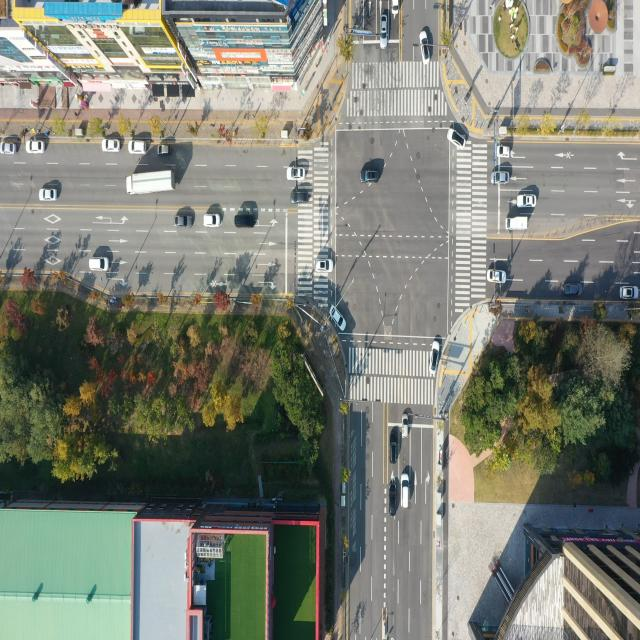car: (447, 127, 467, 152), (428, 340, 440, 376), (419, 29, 430, 65), (400, 474, 410, 510), (516, 194, 538, 210), (332, 308, 346, 332), (235, 213, 256, 228), (389, 479, 397, 516), (204, 212, 222, 228), (380, 13, 388, 49), (360, 170, 379, 185), (129, 140, 148, 155), (27, 140, 46, 155), (621, 285, 640, 300), (290, 190, 310, 204), (487, 270, 507, 284), (314, 260, 334, 274), (390, 429, 398, 463), (103, 138, 121, 153), (40, 187, 59, 201), (175, 214, 194, 228), (90, 259, 109, 273), (287, 167, 305, 181), (563, 282, 581, 296), (0, 141, 17, 155), (492, 172, 508, 184), (158, 144, 172, 157), (497, 145, 512, 157), (401, 414, 408, 438)
medium_truck: (125, 170, 177, 197)
small_truck: (506, 216, 528, 230), (391, 0, 398, 13)
